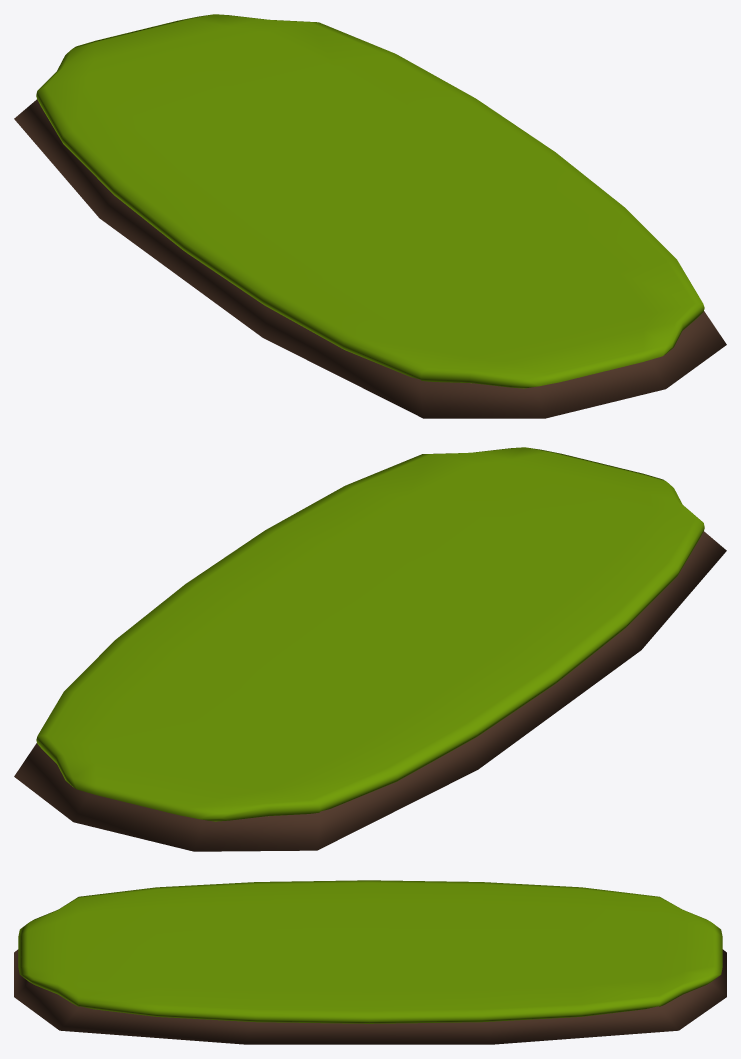
File: enviroment3.fbx
3 views of the same model, one above another, from view 1: azimuth 30°, elevation 25°; view 2: azimuth 150°, elevation 25°; view 3: azimuth 270°, elevation 25° (orthographic). The views are drawn at different scales.
Visible parts, largest first — view 1: env_piece3; view 2: env_piece3; view 3: env_piece3.
Boxes of the visible parts, box(x1,y1,x2,y2) form: env_piece3: box(14, 14, 726, 418); env_piece3: box(14, 447, 726, 851); env_piece3: box(14, 880, 726, 1044).
Size of the model in its own units: 5.88 by 0.5459 by 12.68.
